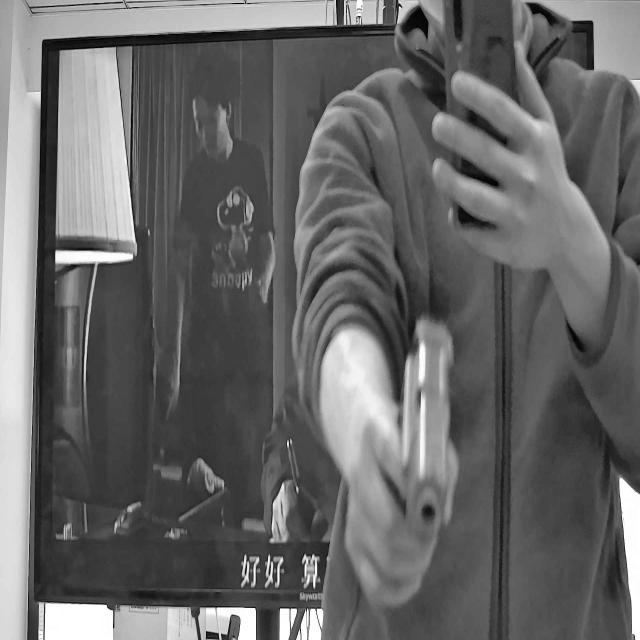Hand-Gun: (312, 210, 512, 592)
